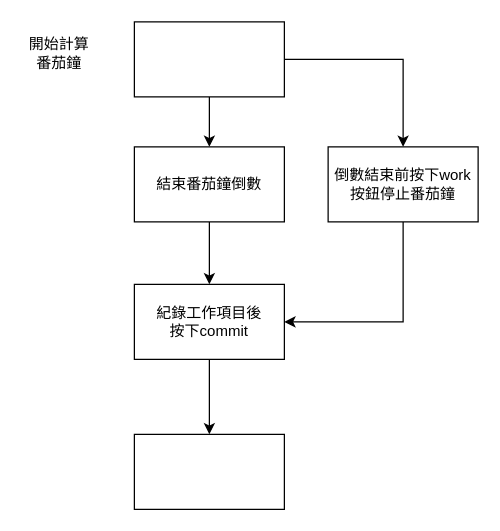
The diagram is 500 pixels wide and 531 high, and some of its shapes have lost their labels. Each missing label, with the centre of its shape:
儲存資訊息: the point at 208,471
按下work按鈕: the point at 208,59
